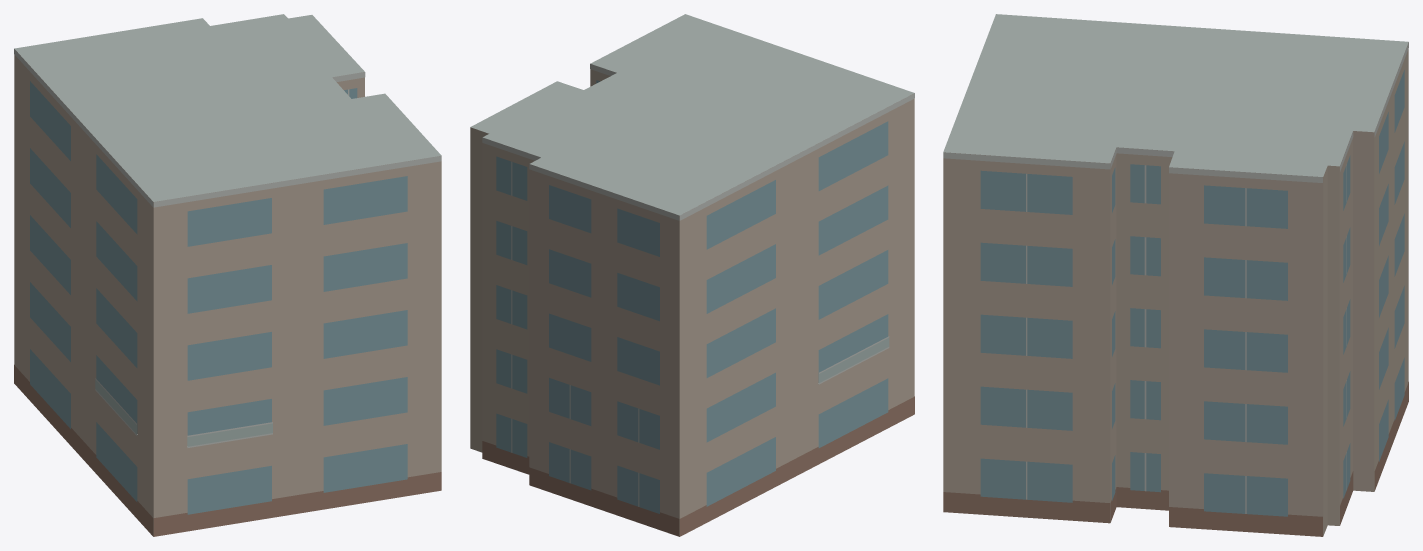
File: survey-upis-32993104.glb
3 renders of one model, left to right at view 1: azimuth 30°, elevation 25°; view 2: azimuth 150°, elevation 25°; view 3: azimuth 270°, elevation 25°, orthographic. The views are drawn at different scales.
Parts seen in each view (by area): view 1: survey-upis-32993104.tmp; view 2: survey-upis-32993104.tmp; view 3: survey-upis-32993104.tmp.
Part boxes in pixels (<box>): survey-upis-32993104.tmp: <box>14,14,441,536</box>; survey-upis-32993104.tmp: <box>470,14,914,536</box>; survey-upis-32993104.tmp: <box>943,14,1408,536</box>.
Bounding box in the file's own units: 14.11 × 14.5 × 17.02.
